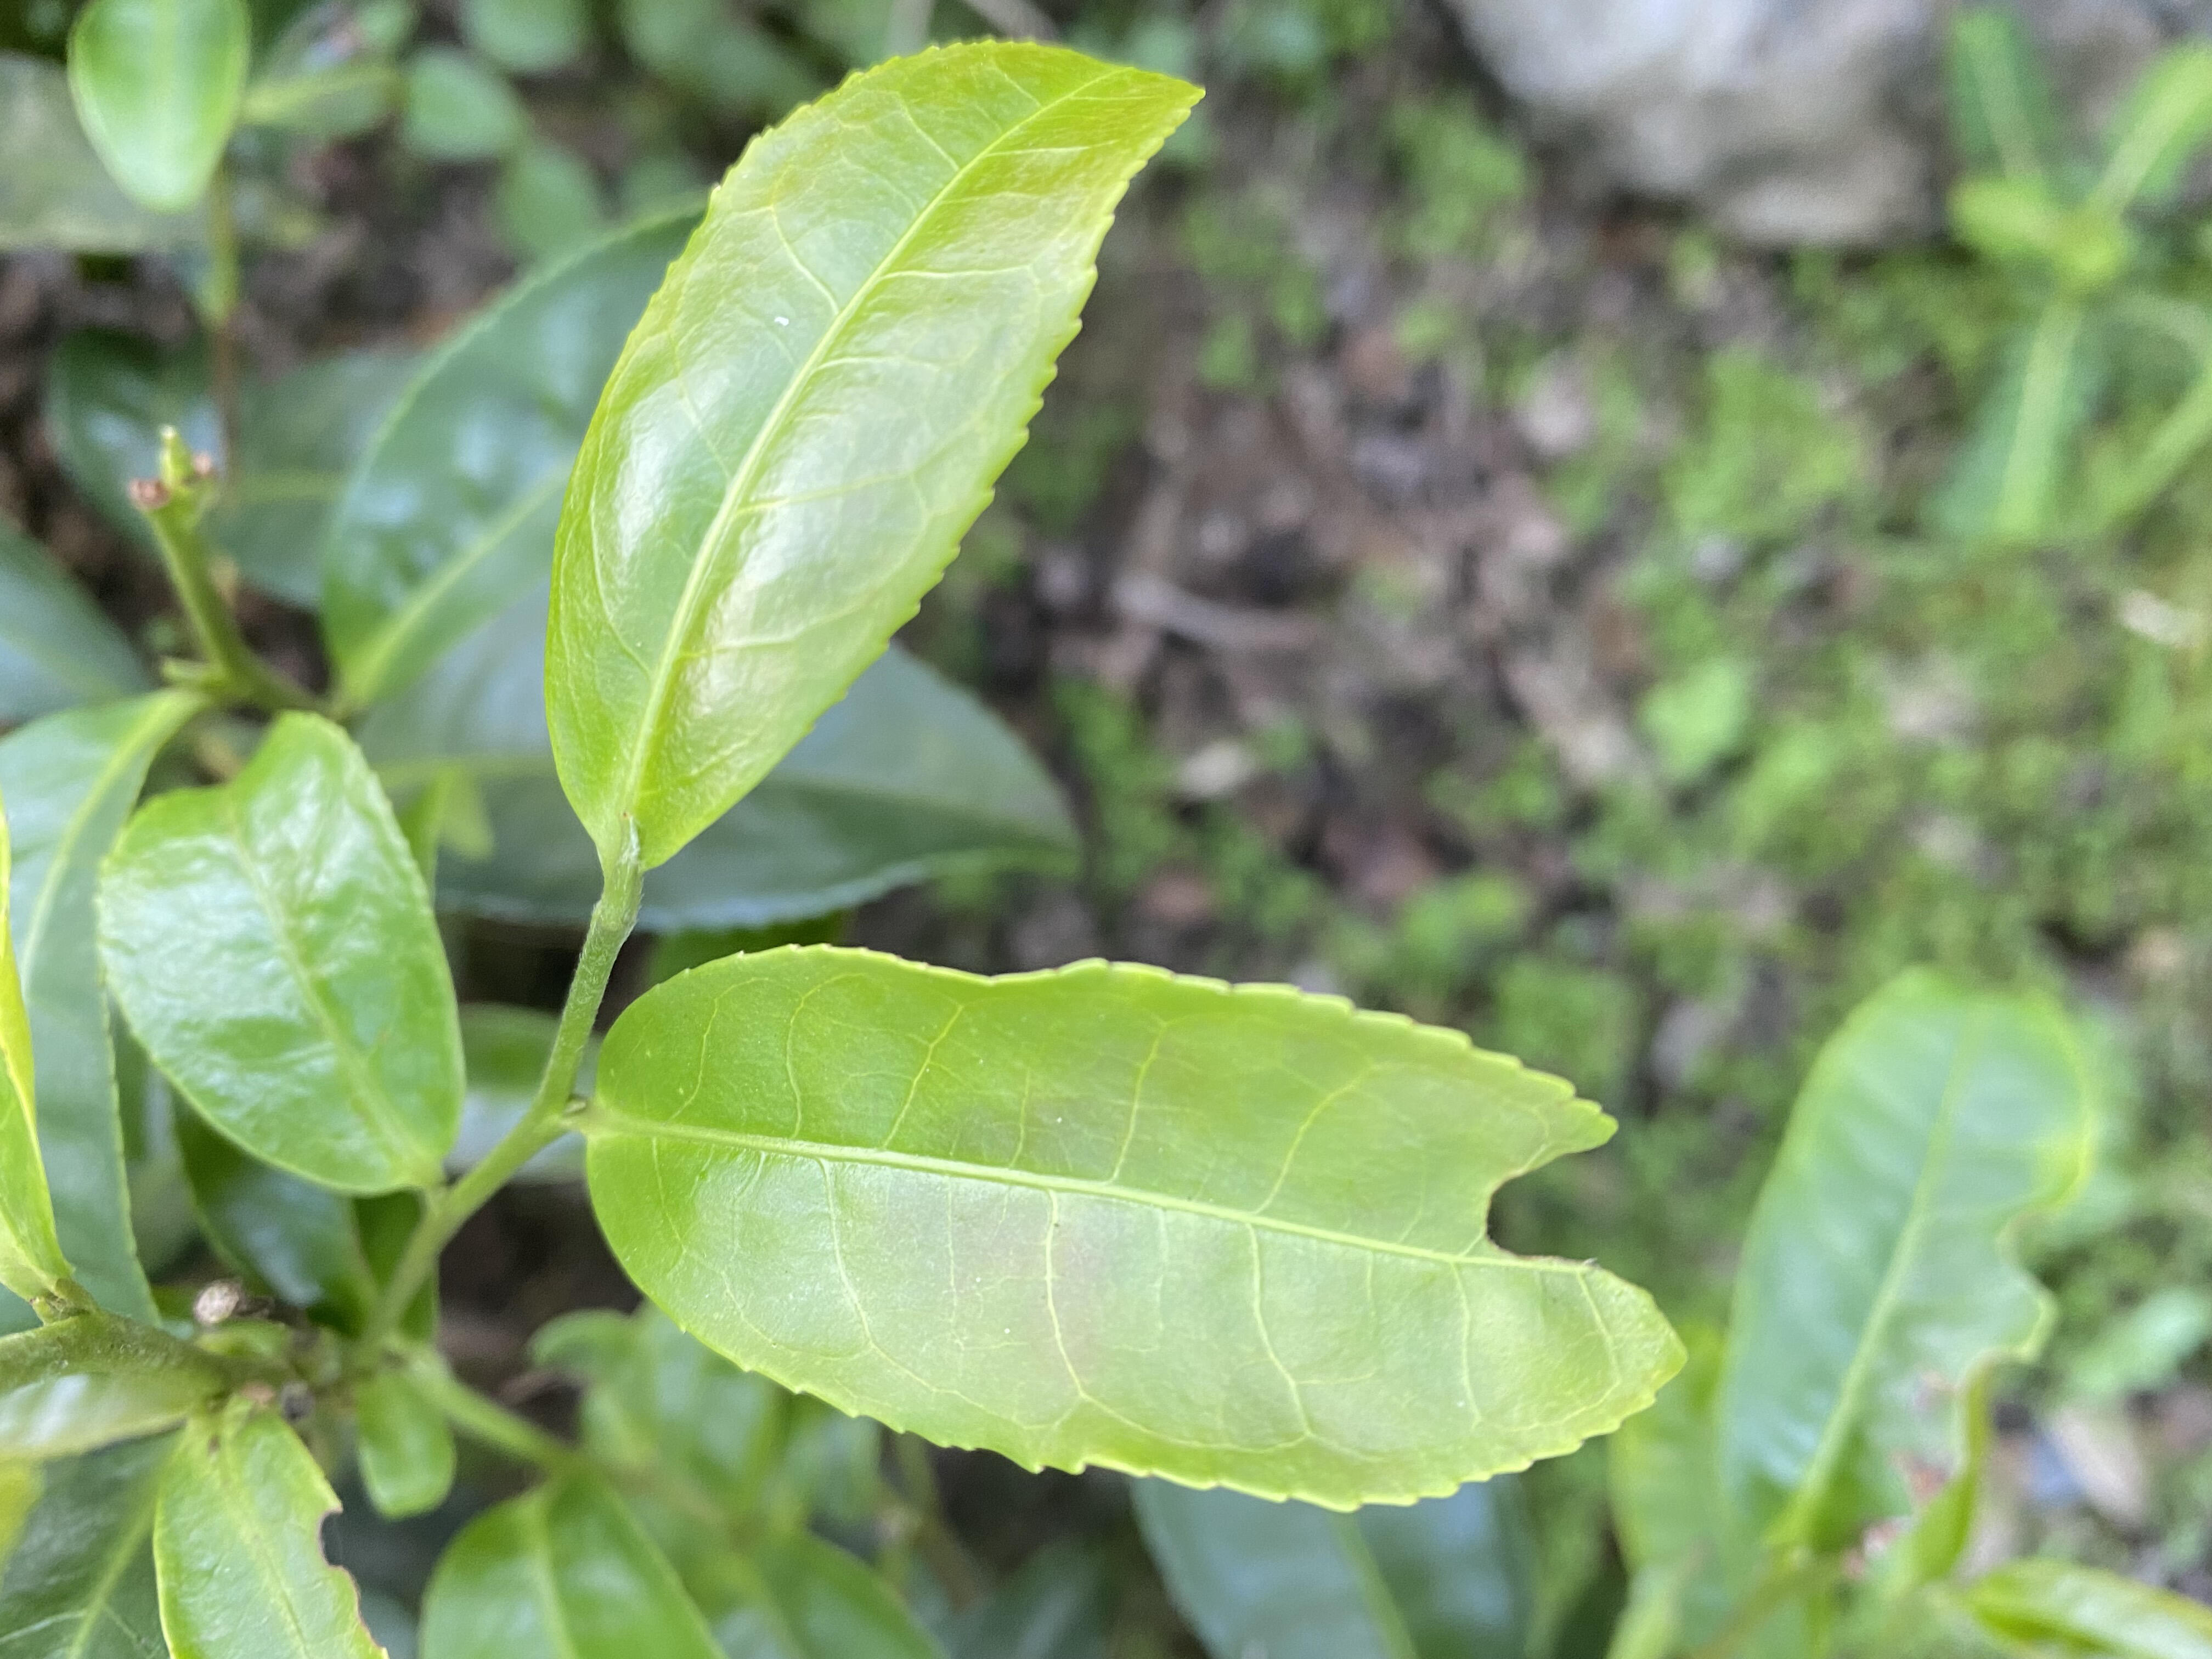chihuo_low: (583, 941, 1689, 1507)
healthy: (542, 30, 1207, 875), (89, 708, 470, 1195)
tanju_high: (1709, 965, 2092, 1595)
